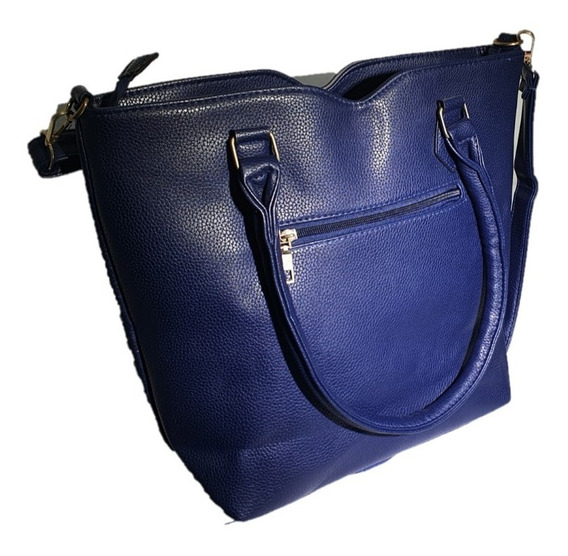cartera: (30, 28, 540, 524)
